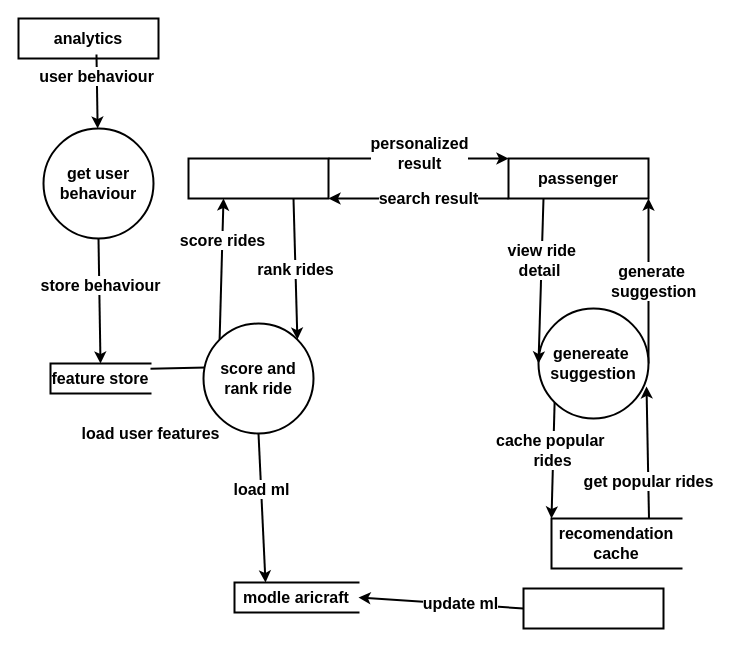
Some shapes in this 731 by 664 pixel diagram are drawn without their labels. Each missing label, with the centre of its shape:
admin: the point at 593,608
search and index: the point at 258,178
